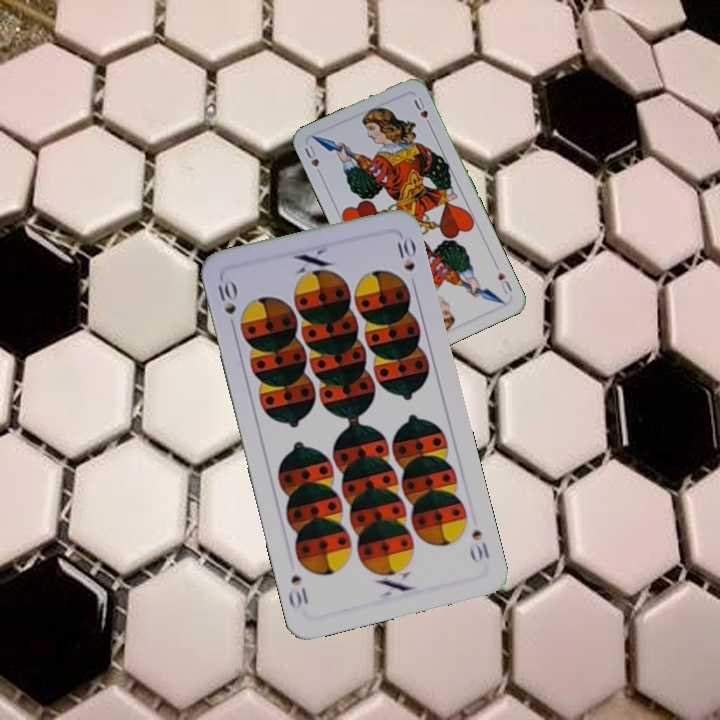HU: (300, 141, 325, 179), (494, 268, 515, 297)
S10: (214, 275, 239, 333), (466, 525, 492, 566)
